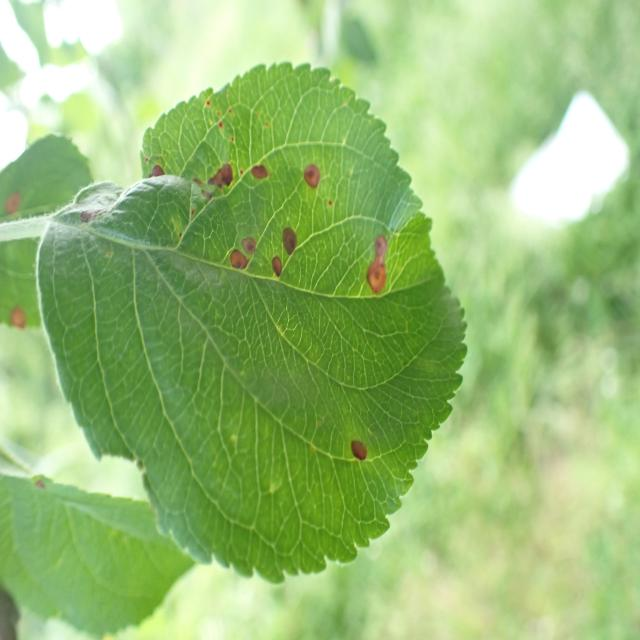Black Rot: (359, 228, 399, 304), (196, 150, 236, 212), (146, 156, 174, 211), (262, 251, 286, 302), (219, 248, 256, 279), (299, 154, 324, 197), (337, 436, 372, 464), (250, 159, 274, 196), (280, 222, 302, 262), (236, 228, 256, 257)
